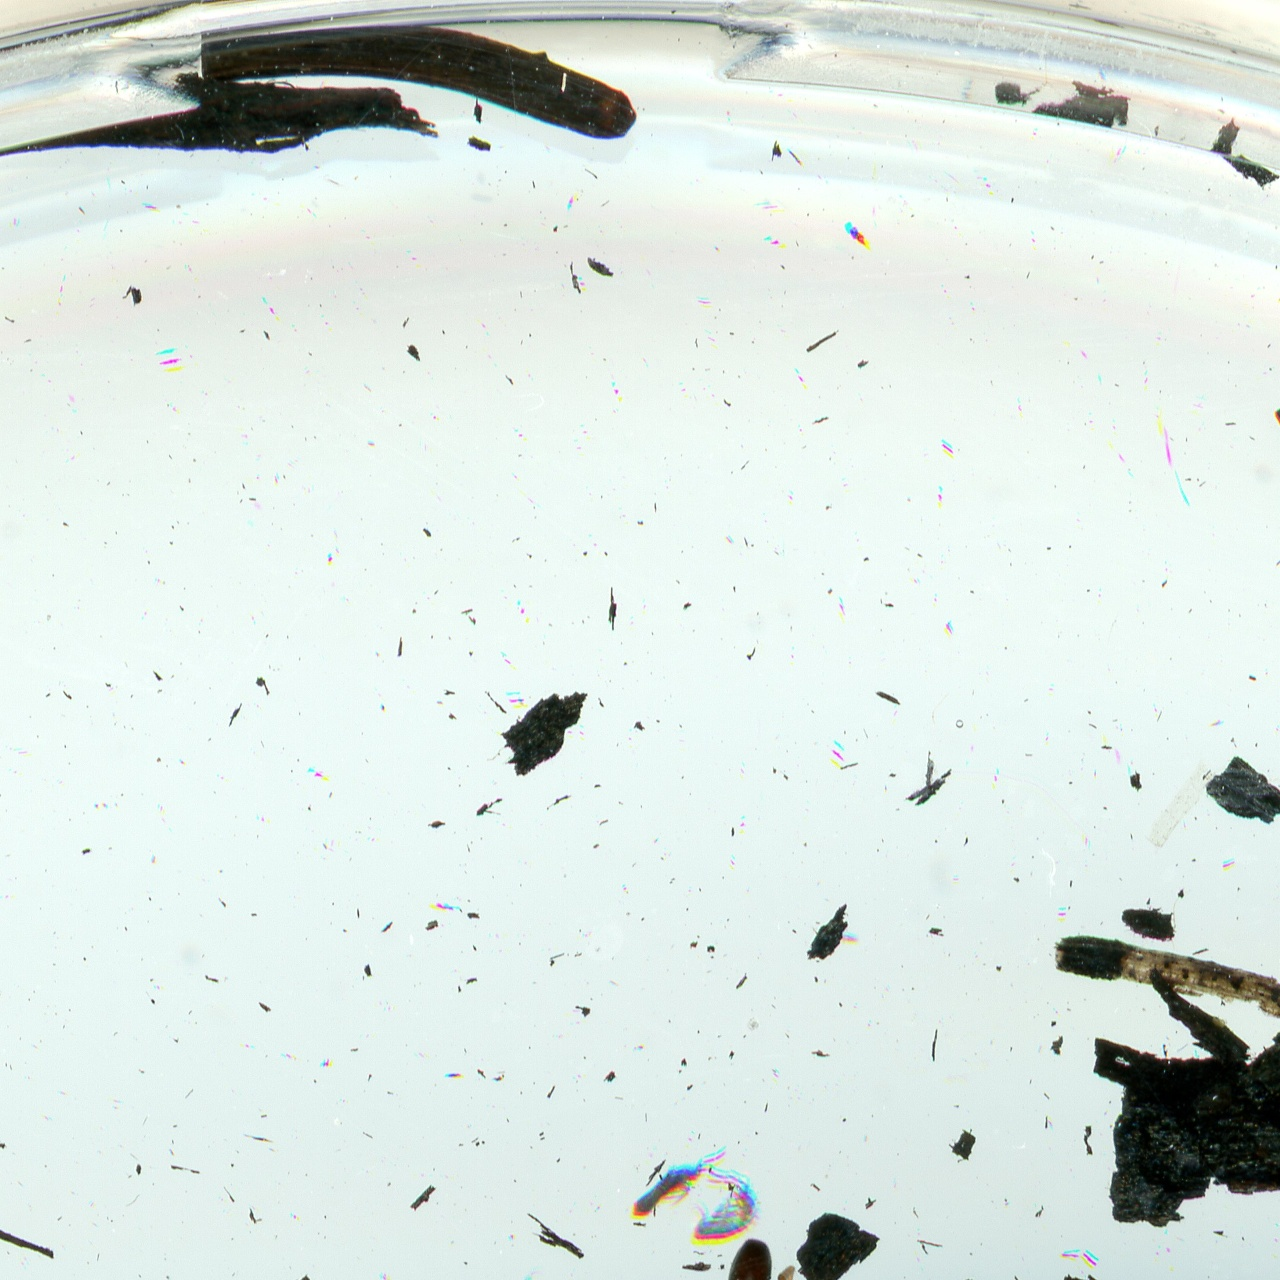arthropod: (625, 1123, 735, 1244), (690, 1166, 766, 1253), (663, 1238, 813, 1280), (489, 1266, 545, 1280)
